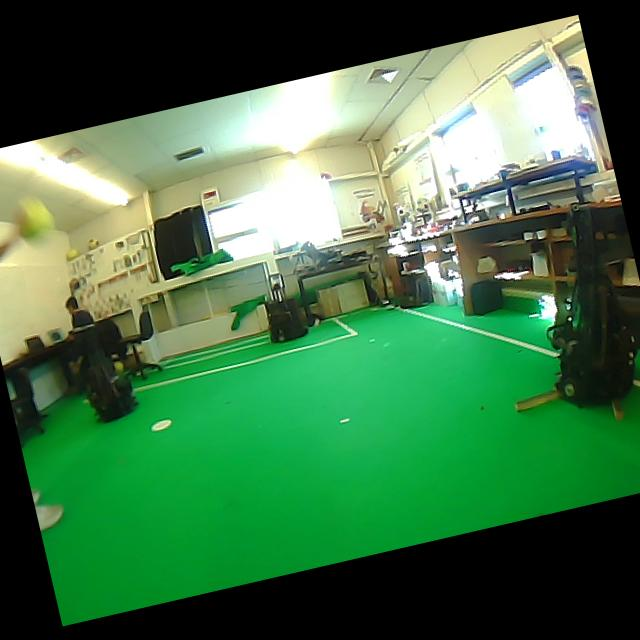ball: (16, 196, 55, 236), (66, 248, 79, 260), (87, 238, 99, 249)
robot: (551, 205, 636, 405), (75, 325, 137, 421), (265, 273, 307, 341)
